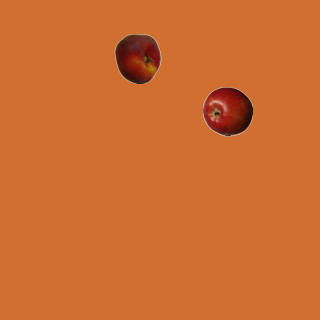Apple Braeburn: (202, 86, 252, 136)
Nectarine Flat: (112, 33, 162, 83)
